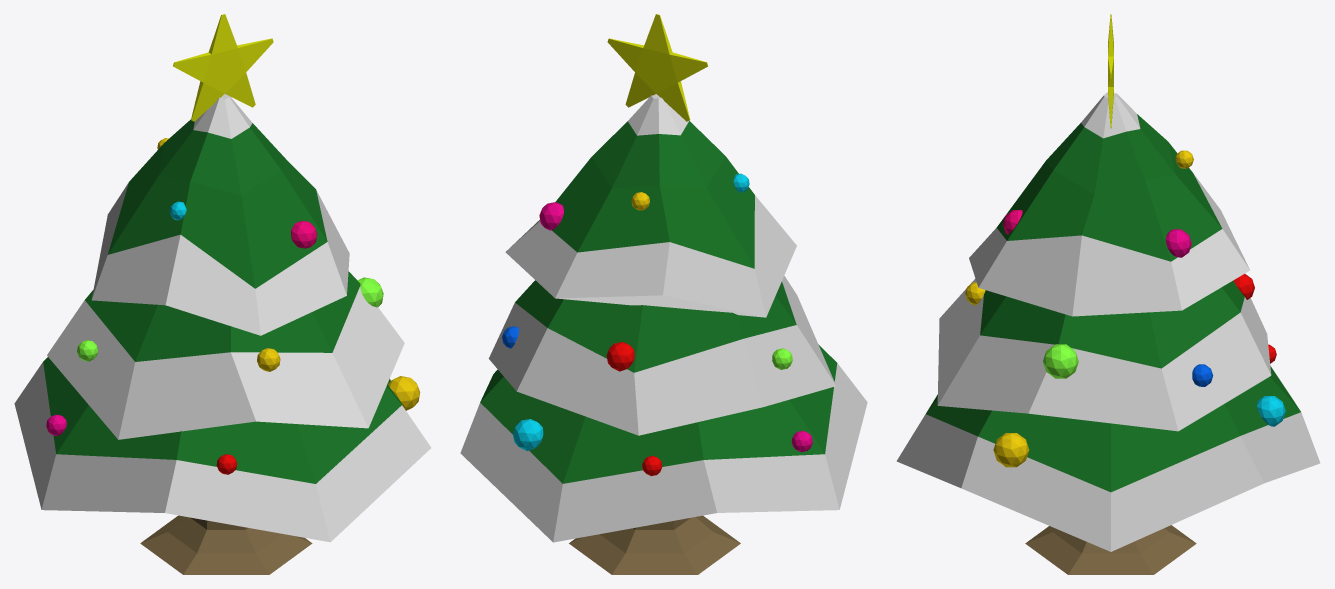
File: c-tree (1).fbx
3 views of the same model, side by side, from view 1: azimuth 30°, elevation 25°; view 2: azimuth 150°, elevation 25°; view 3: azimuth 270°, elevation 25° (orthographic).
Parts seen in each view (by area): view 1: Icosphere.001; view 2: Icosphere.001; view 3: Icosphere.001.
Boxes of the visible parts, <box> form: Icosphere.001: <box>14,14,431,574</box>; Icosphere.001: <box>460,14,867,574</box>; Icosphere.001: <box>896,14,1320,574</box>.
Bounding box in the file's own units: 177 × 246 × 179.
